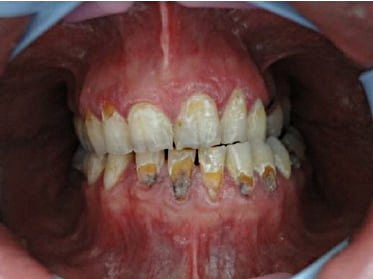karies: (168, 163, 195, 204), (134, 164, 159, 191), (200, 183, 226, 204), (232, 178, 257, 199), (262, 98, 279, 120), (262, 170, 277, 193), (100, 102, 116, 119)
